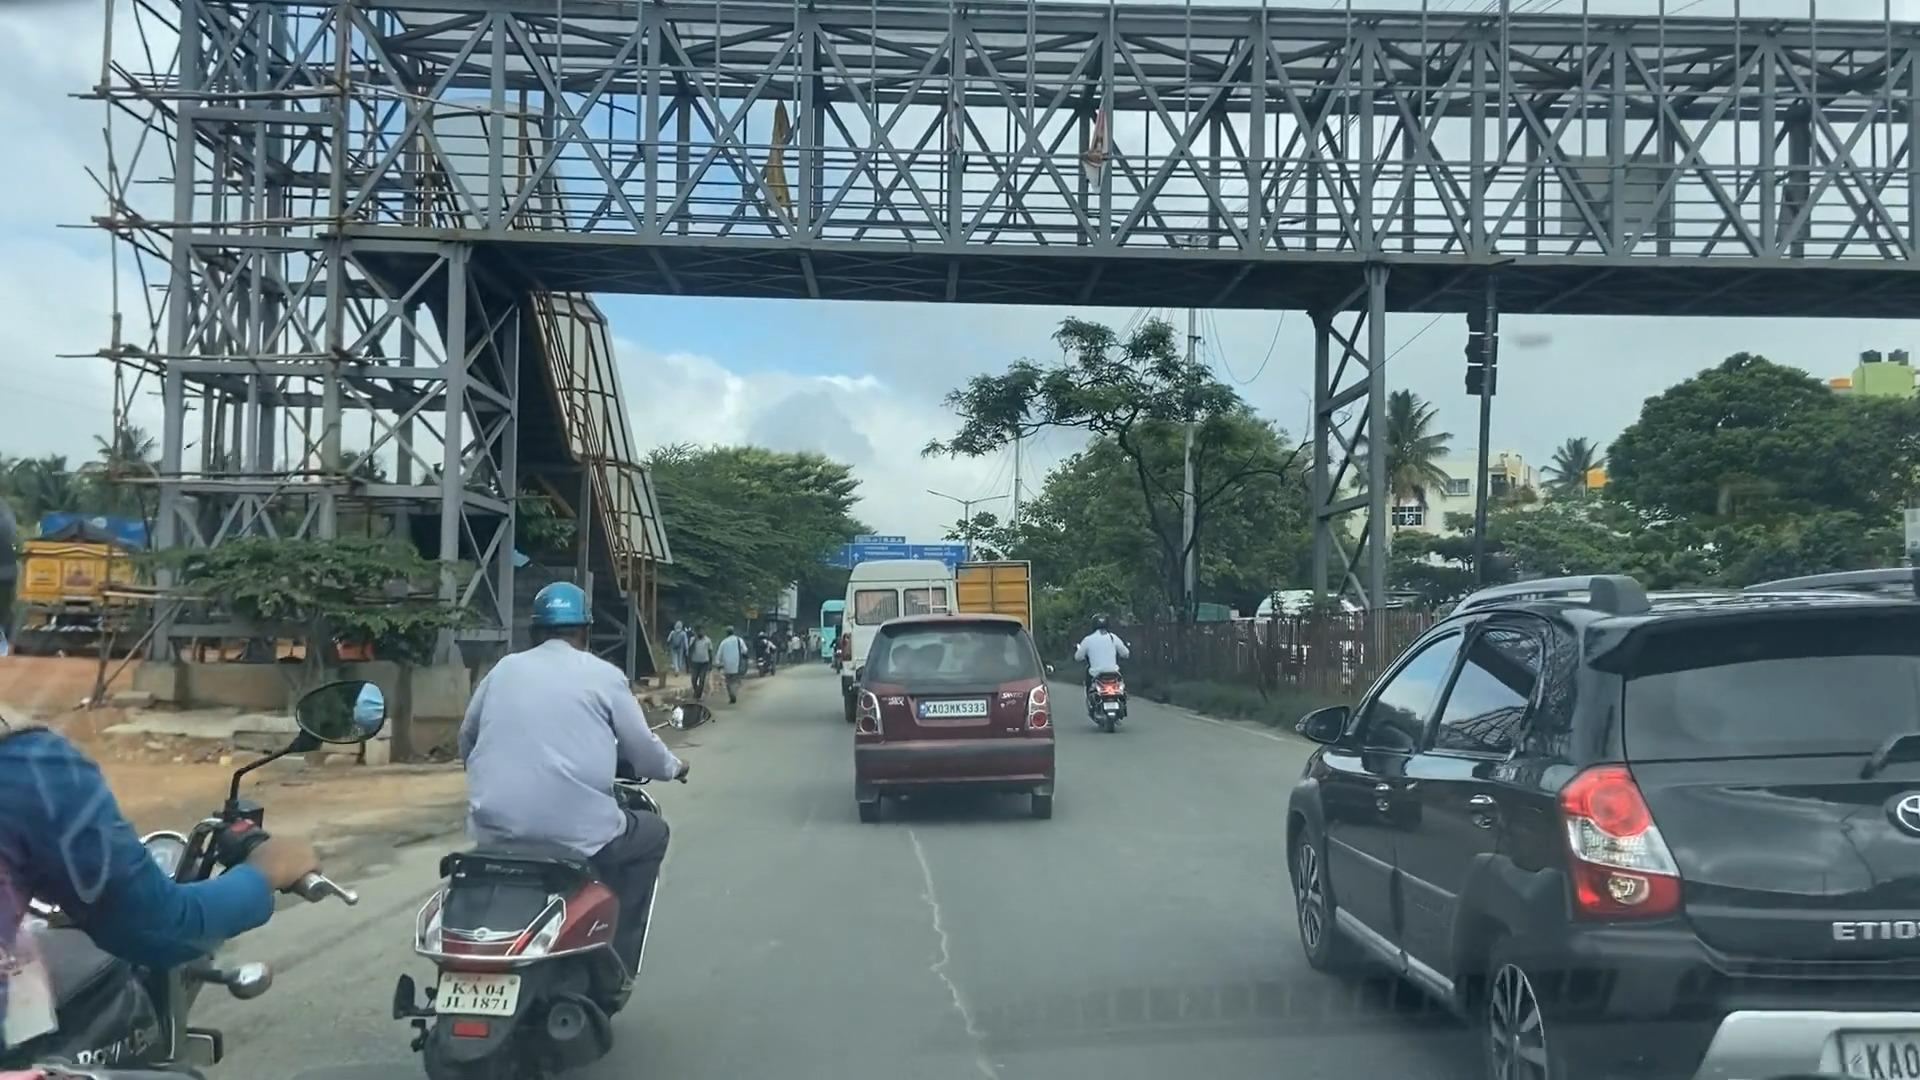LMV: (851, 618, 1055, 807), (1084, 616, 1125, 721)
RoadDamages: (882, 820, 994, 1067)
